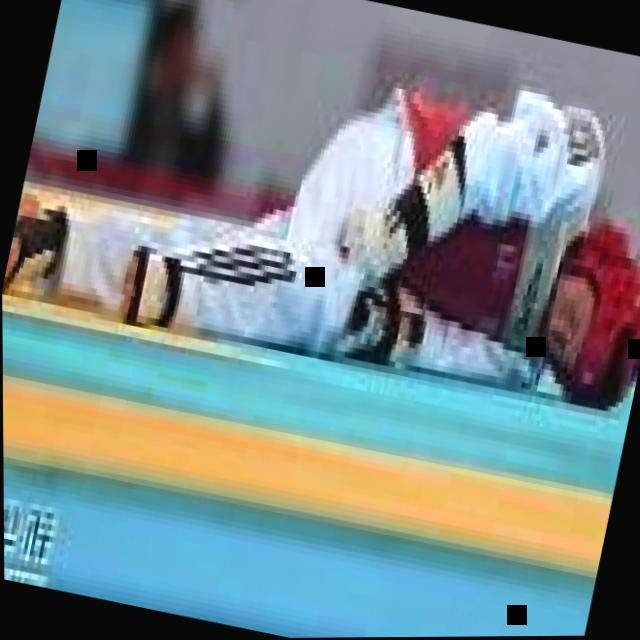Fall-Detected: (1, 0, 640, 426)
